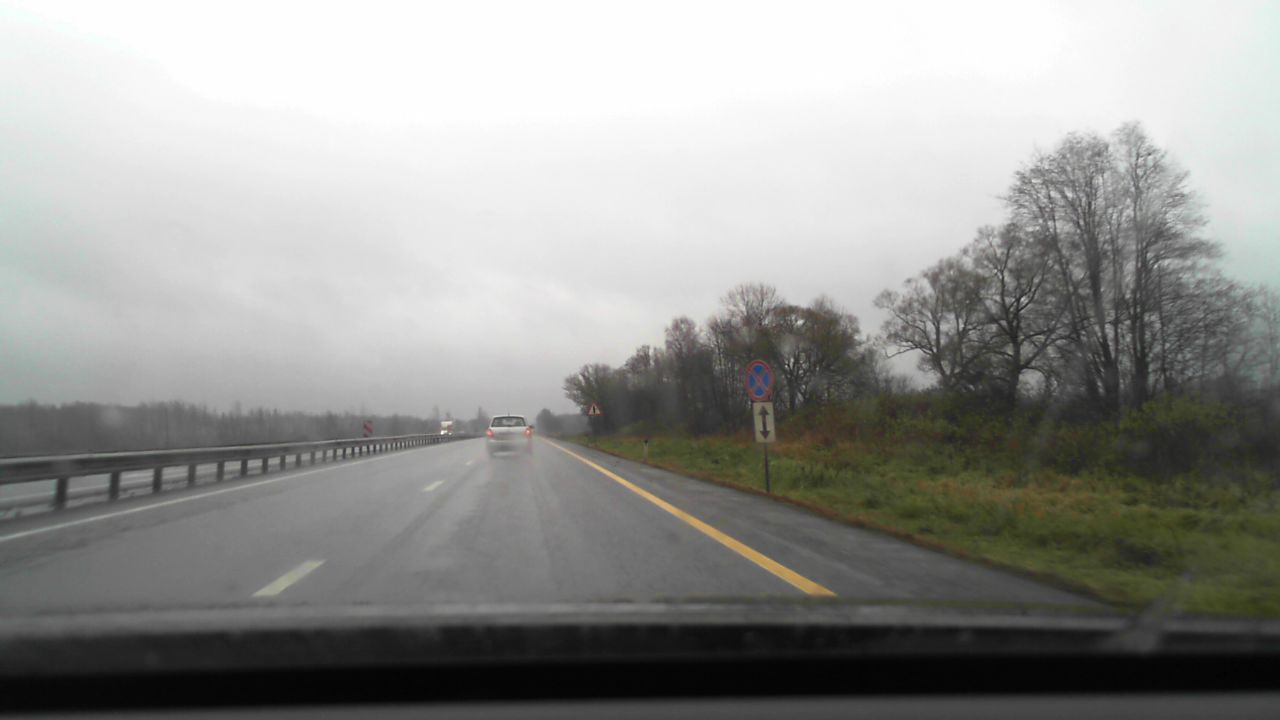No Parking: (744, 360, 773, 400)
